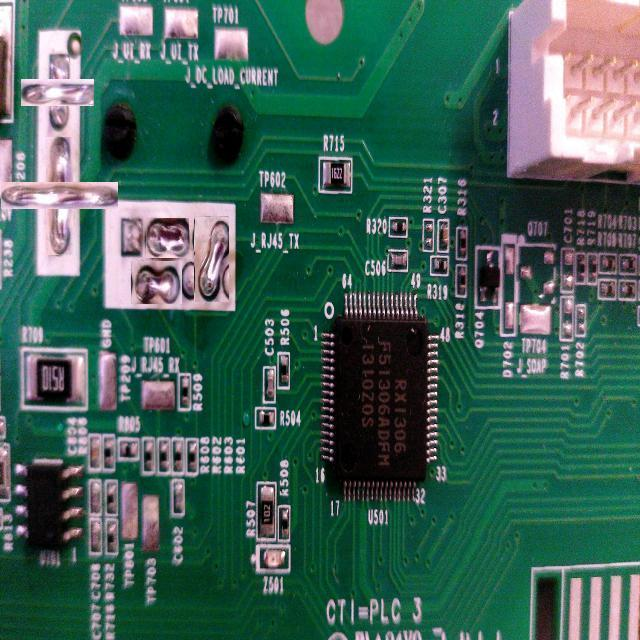Short_circuit: (23, 160, 96, 232), (194, 216, 229, 302), (32, 68, 83, 119), (130, 260, 182, 304), (146, 217, 190, 258)
